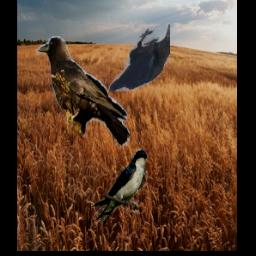Crow: (35, 33, 130, 151), (108, 25, 171, 92)
Swallow: (92, 149, 148, 225)
